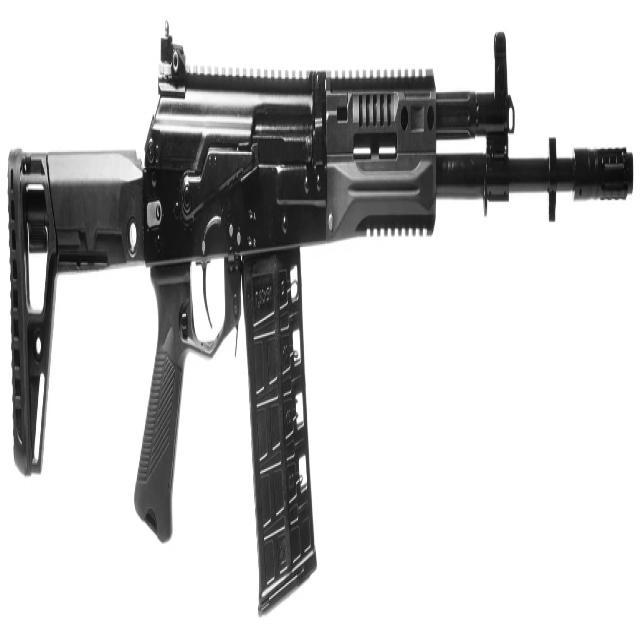weapon: (6, 21, 634, 620)
